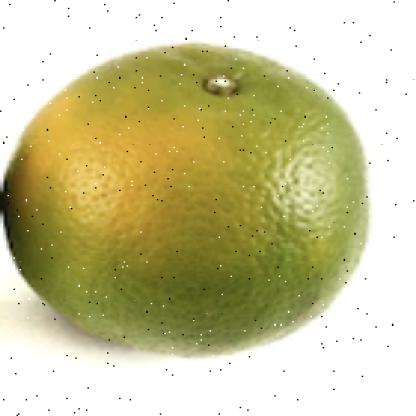fresh: (1, 43, 373, 360)
